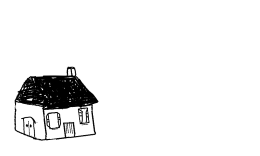bottom_placed_house: (4, 2, 260, 156)
chimney: (62, 62, 81, 83)
door: (19, 112, 38, 142), (62, 120, 78, 142)
open_window: (44, 109, 62, 131), (76, 105, 94, 126)
shaded_roof: (11, 65, 103, 109)
small_house: (0, 1, 260, 156)
wall: (41, 103, 97, 143)
